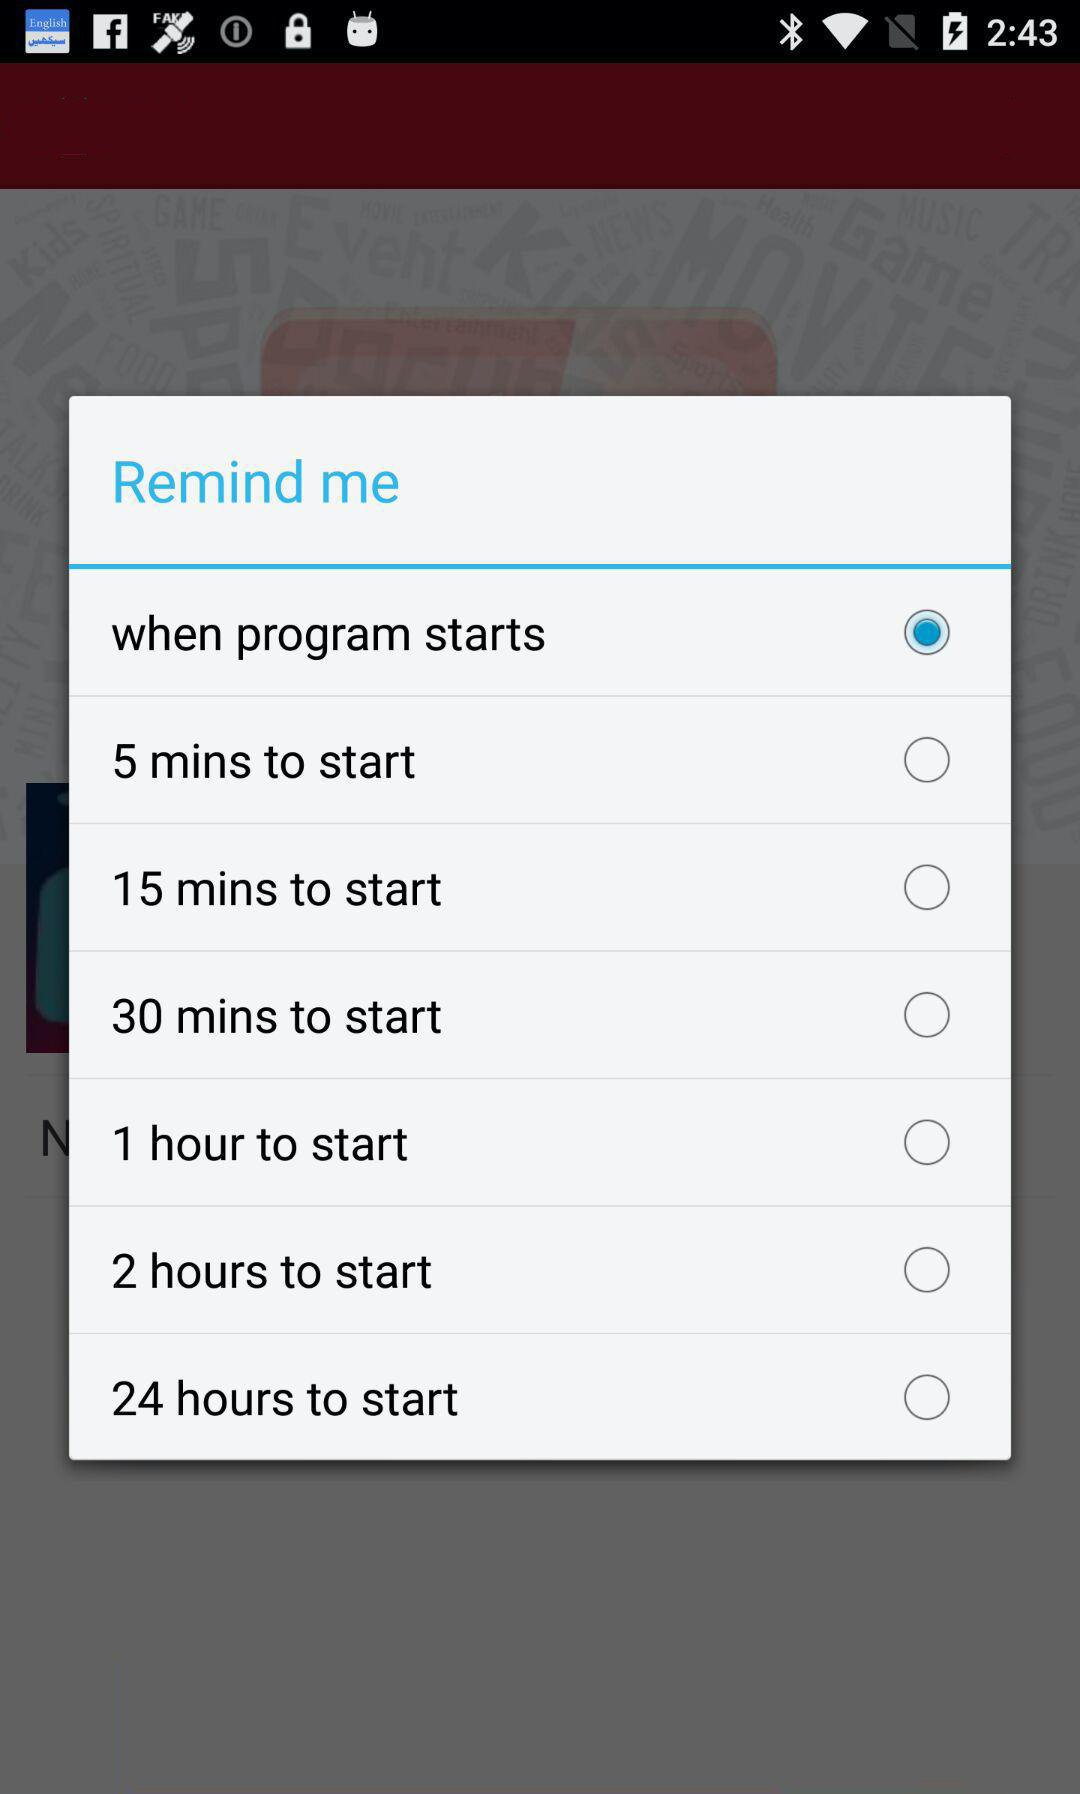CheckedTextView: (111, 609, 951, 662), (111, 991, 951, 1039), (111, 1246, 951, 1294), (111, 1372, 951, 1421), (114, 736, 951, 784), (114, 1117, 951, 1166), (114, 864, 951, 911)
Modal: (69, 396, 1012, 1461)
Text: (111, 614, 546, 662), (111, 1378, 460, 1419), (111, 1249, 433, 1290), (111, 997, 443, 1035), (114, 870, 443, 909), (117, 459, 398, 504), (114, 1124, 409, 1164), (114, 742, 416, 780)
UpperTaskBar: (1, 1, 1080, 64)
